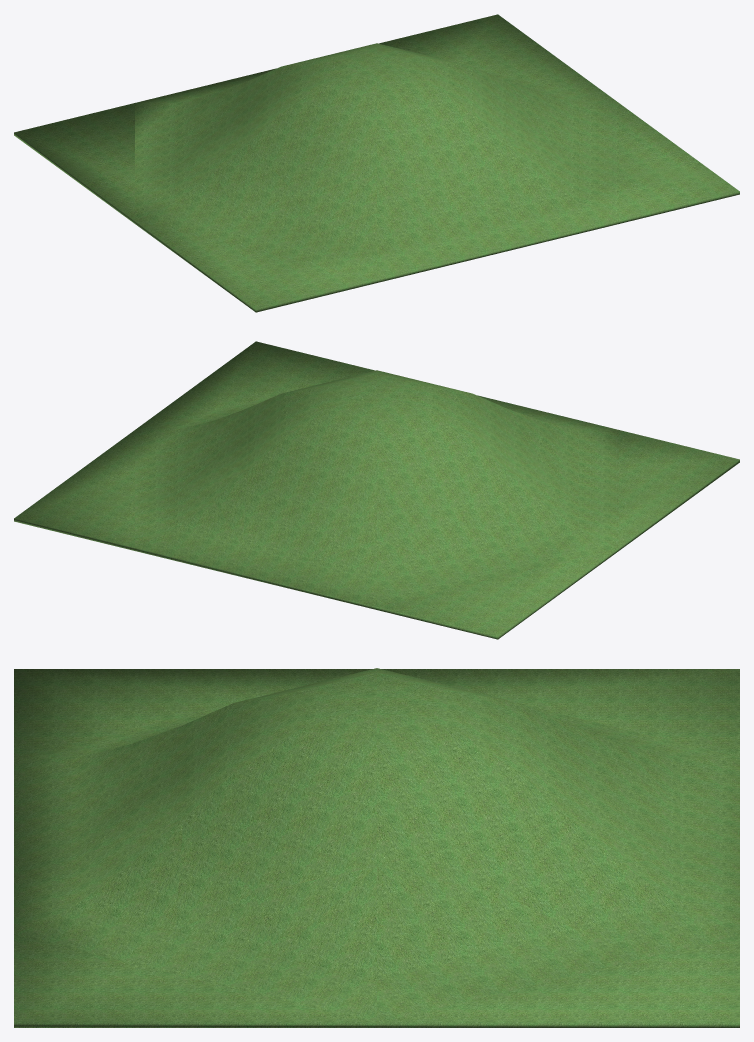
Rendered from hill.dae.
3 views of the same model, one above another, from view 1: azimuth 30°, elevation 25°; view 2: azimuth 150°, elevation 25°; view 3: azimuth 270°, elevation 25° (orthographic). The views are drawn at different scales.
Visible parts, largest first — view 1: SketchUp; view 2: SketchUp; view 3: SketchUp.
Boxes of the visible parts, box(x1,y1,x2,y2) form: SketchUp: box(14, 14, 739, 312); SketchUp: box(14, 341, 739, 639); SketchUp: box(14, 668, 739, 1027).
Size of the model in its own units: 8683 by 7520 by 1670.
Materials: 2 (2 with a texture image).
